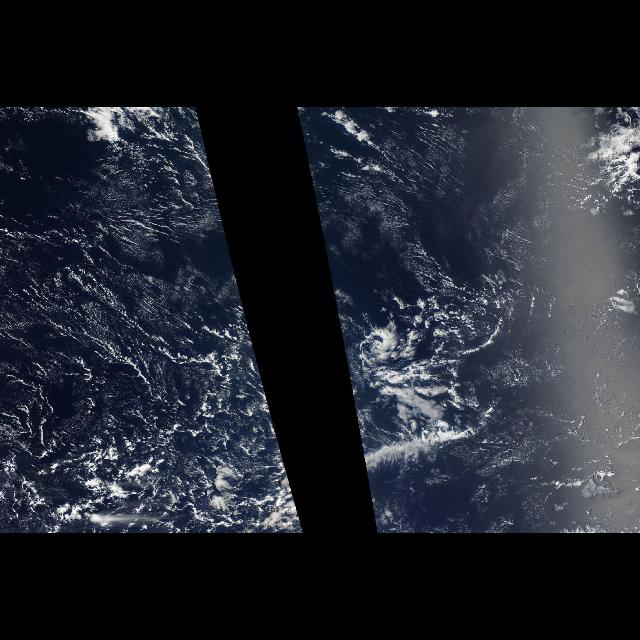Sugar: (0, 180, 284, 510), (328, 120, 596, 298)
